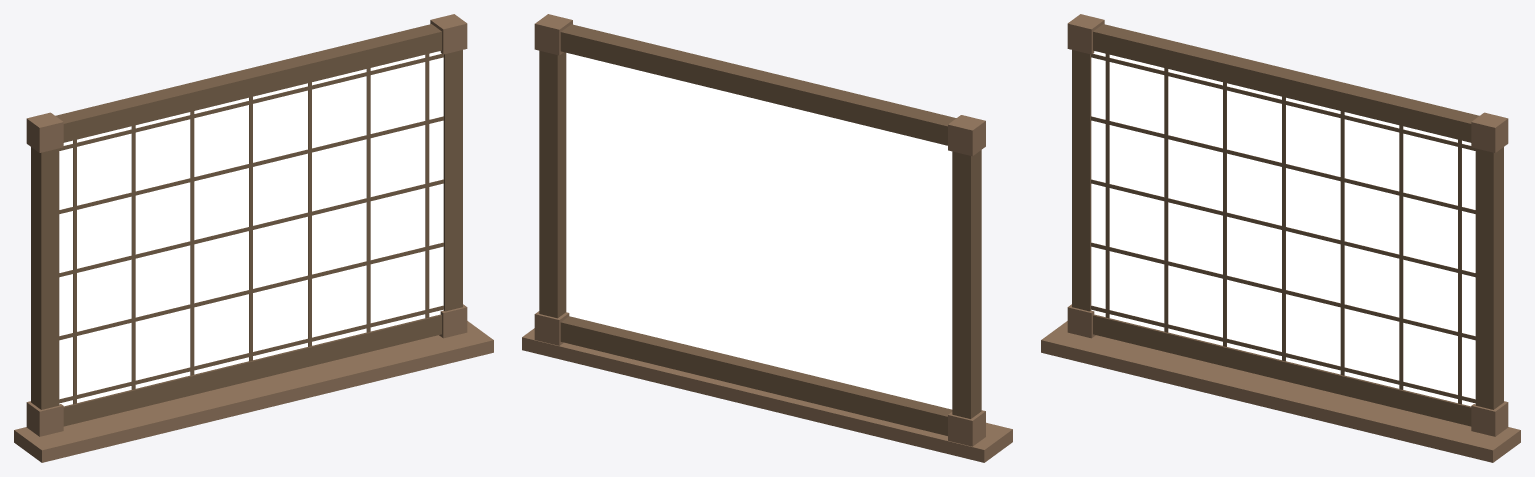
File: paper_screen_window.glb
The picture shows the model from 3 angles, left to right: view 1: azimuth 30°, elevation 25°; view 2: azimuth 150°, elevation 25°; view 3: azimuth 330°, elevation 25°; orthographic projection. The views are drawn at different scales.
Visible parts, largest first — view 1: paper_screen_window; view 2: paper_screen_window; view 3: paper_screen_window.
Boxes of the visible parts, x1,y1,x2,y2 form: paper_screen_window: (14,14,493,462); paper_screen_window: (522,14,1012,462); paper_screen_window: (1041,14,1520,462).
Bounding box in the file's own units: 1.5 × 1.02 × 0.16.
